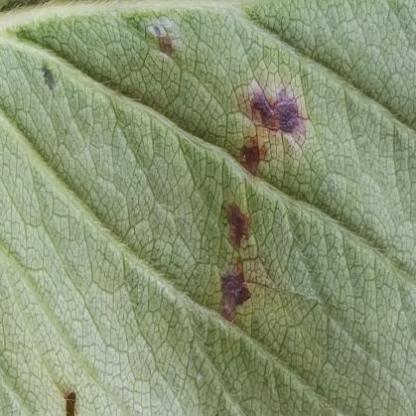Strawberry_Angular_LeafSpot: (29, 15, 318, 326)
